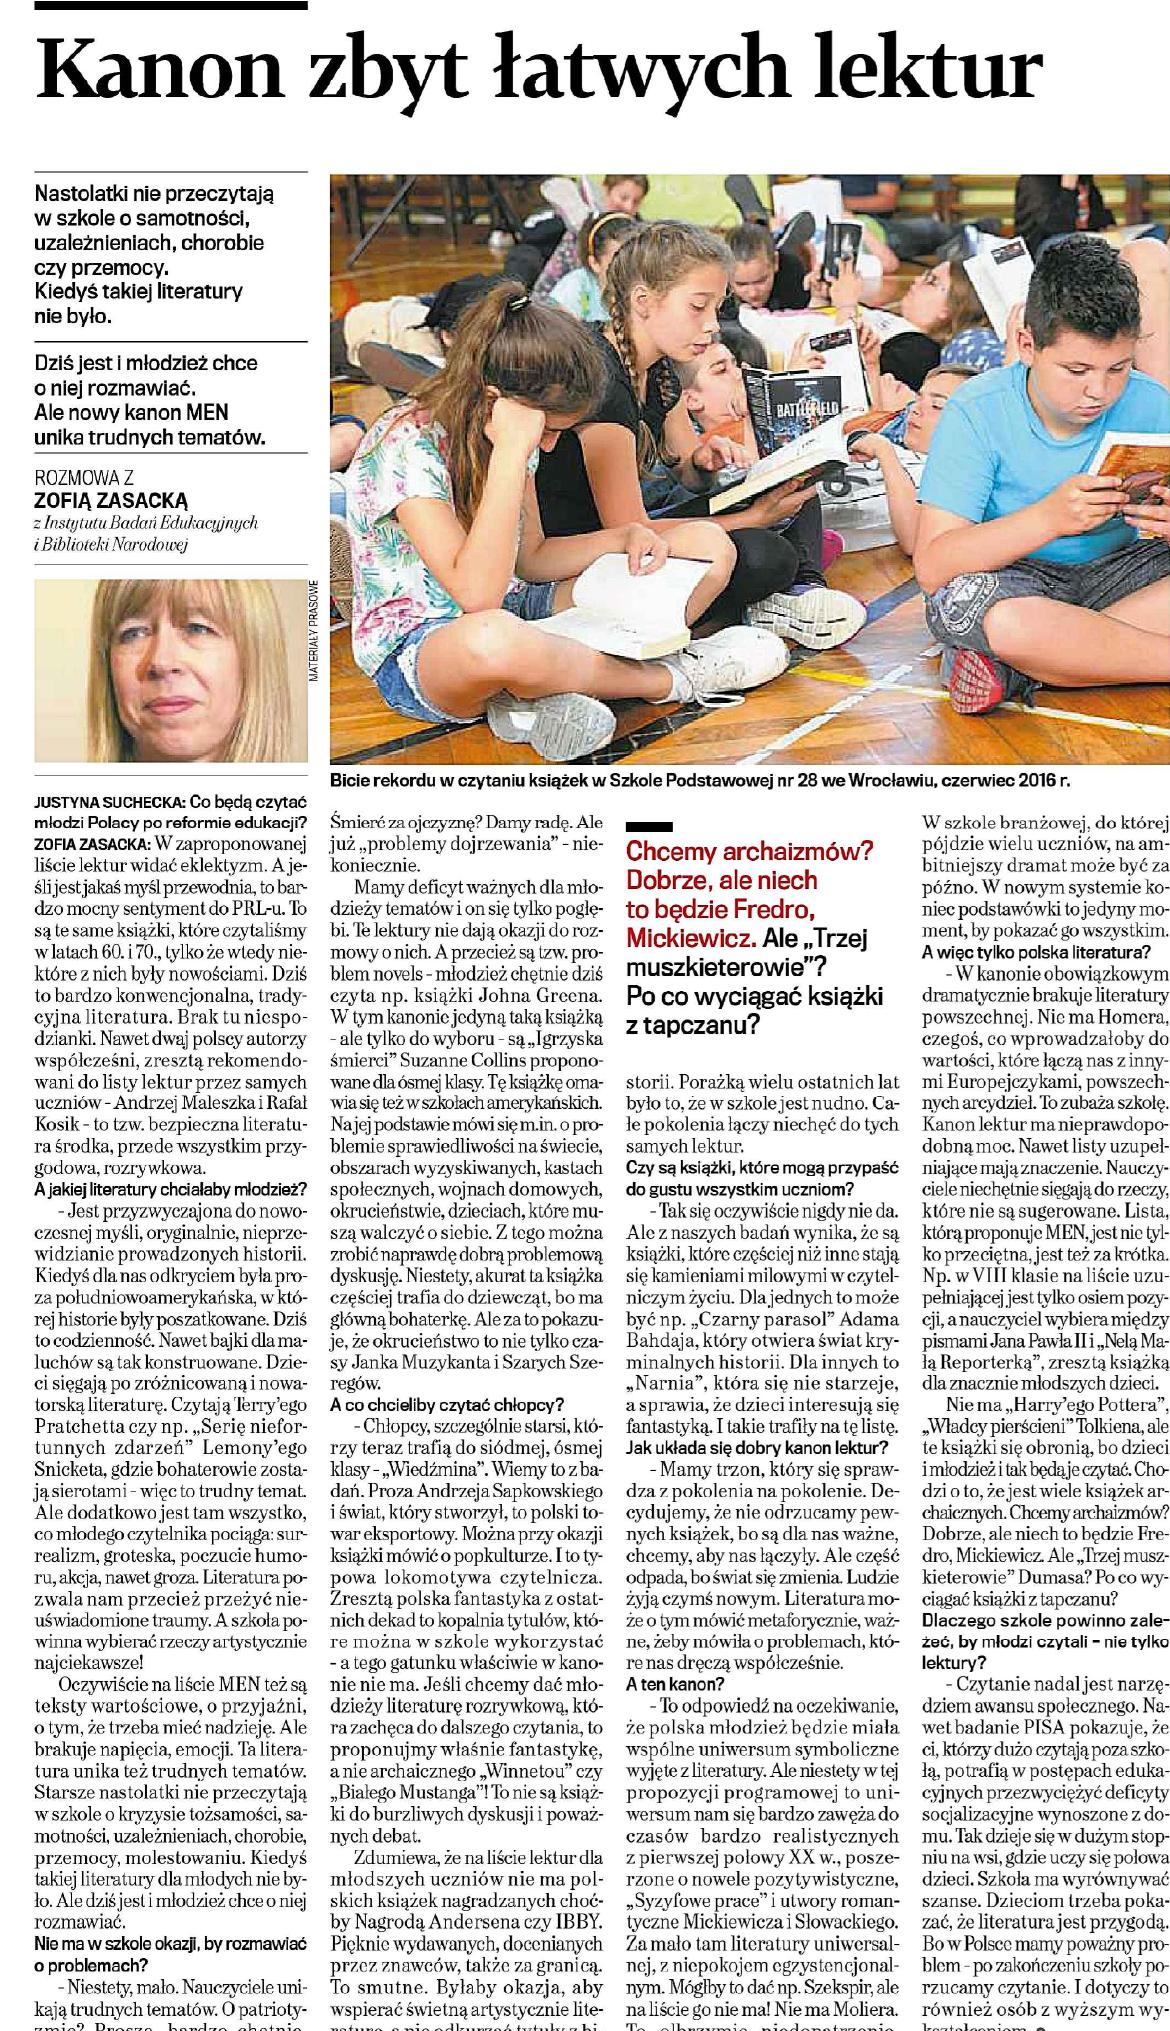body: (26, 787, 317, 2031), (324, 808, 612, 2031), (919, 806, 1170, 2031), (621, 1063, 905, 2031), (616, 806, 906, 1052)
caption: (326, 769, 1095, 796)
image: (324, 172, 1170, 769), (26, 572, 318, 771)
lead: (28, 173, 301, 452)
title: (25, 25, 1071, 120)
